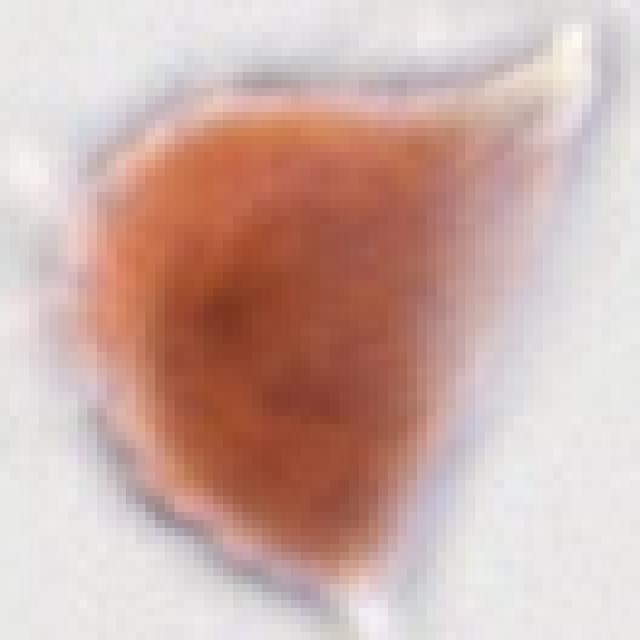cytoplasm: (73, 66, 621, 633)
nucleus: (112, 146, 471, 580)
